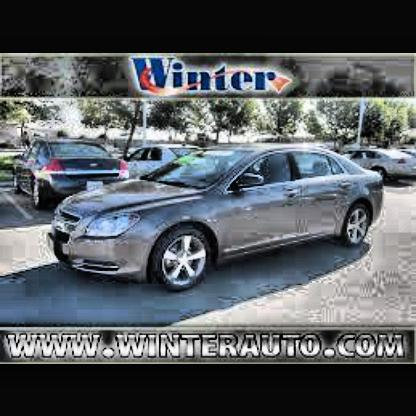Chevrolet Malibu Hybrid Sedan 2010: (45, 138, 390, 290)
